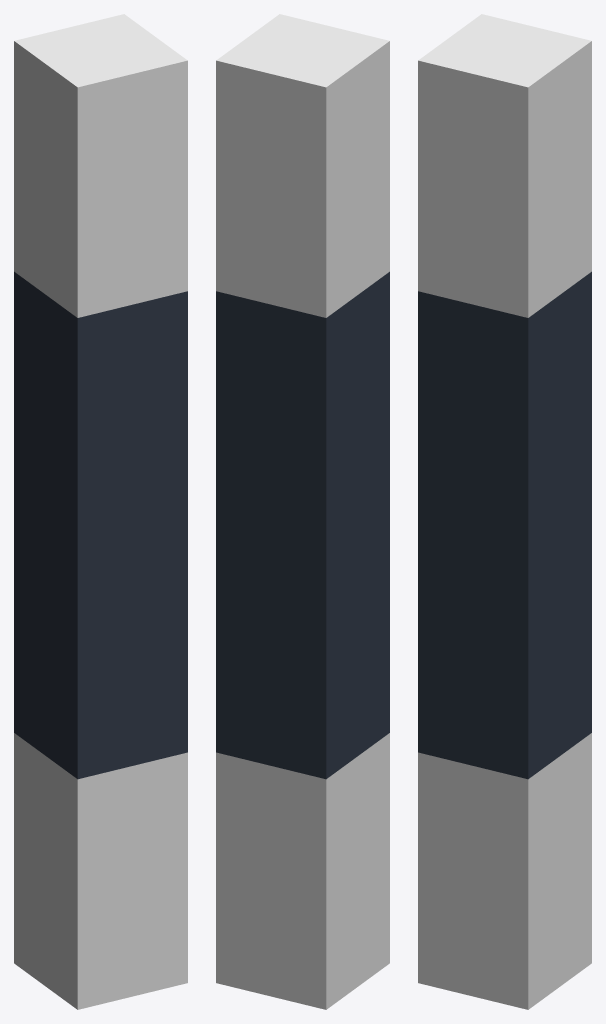
Rendered from SM_OfficePillar.fbx.
3 renders of one model, left to right at view 1: azimuth 30°, elevation 25°; view 2: azimuth 150°, elevation 25°; view 3: azimuth 330°, elevation 25°, orthographic.
Visible parts, largest first — view 1: SM_Pillar; view 2: SM_Pillar; view 3: SM_Pillar.
Part boxes in pixels (bbox=[...]): SM_Pillar: bbox=[14, 14, 187, 1009]; SM_Pillar: bbox=[216, 14, 389, 1009]; SM_Pillar: bbox=[418, 14, 591, 1009].
Bounding box in the file's own units: 50 × 400 × 50.
